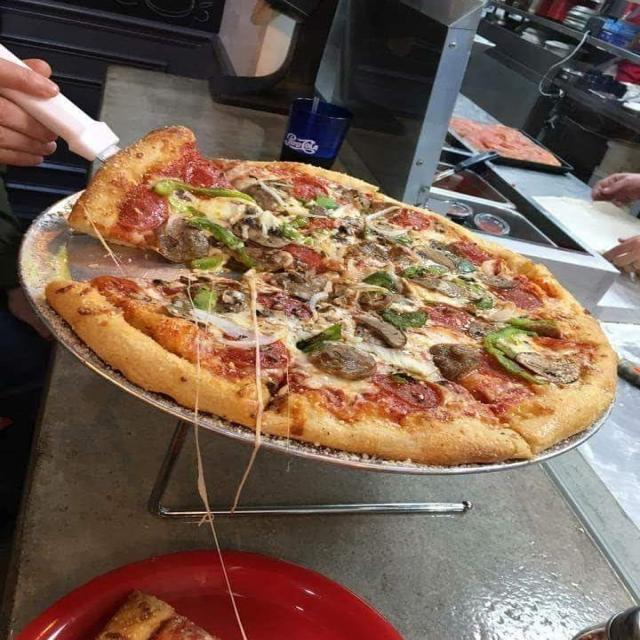mushrooms: (307, 338, 378, 381), (348, 306, 412, 351), (427, 338, 479, 380), (517, 350, 578, 385), (264, 265, 328, 296), (157, 228, 210, 263), (233, 218, 292, 248), (248, 245, 299, 272), (413, 242, 462, 270), (417, 274, 461, 298), (339, 185, 372, 214), (221, 287, 247, 313), (478, 273, 520, 289), (166, 296, 194, 319), (331, 221, 354, 240), (328, 282, 351, 298), (316, 295, 335, 313)
pepperoni: (370, 369, 444, 410), (212, 334, 291, 371), (116, 184, 169, 228), (179, 160, 234, 198), (251, 291, 315, 321), (425, 300, 477, 336), (280, 240, 326, 274), (488, 282, 541, 310), (286, 172, 330, 202), (535, 332, 589, 353), (388, 206, 431, 232), (454, 237, 486, 266), (305, 215, 335, 232)
pizza: (42, 123, 620, 470)
